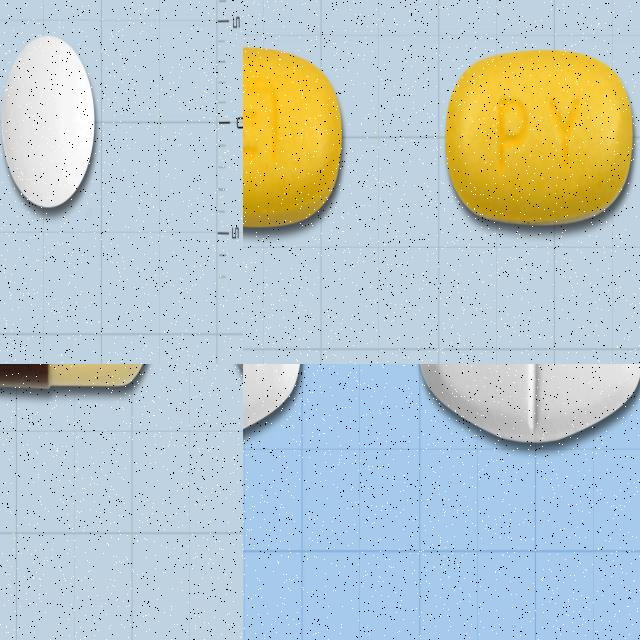Lenovo: (0, 34, 94, 209)
Levo Plus: (417, 364, 640, 443)
Pilocin Tab: (446, 52, 634, 226), (243, 48, 342, 227)
